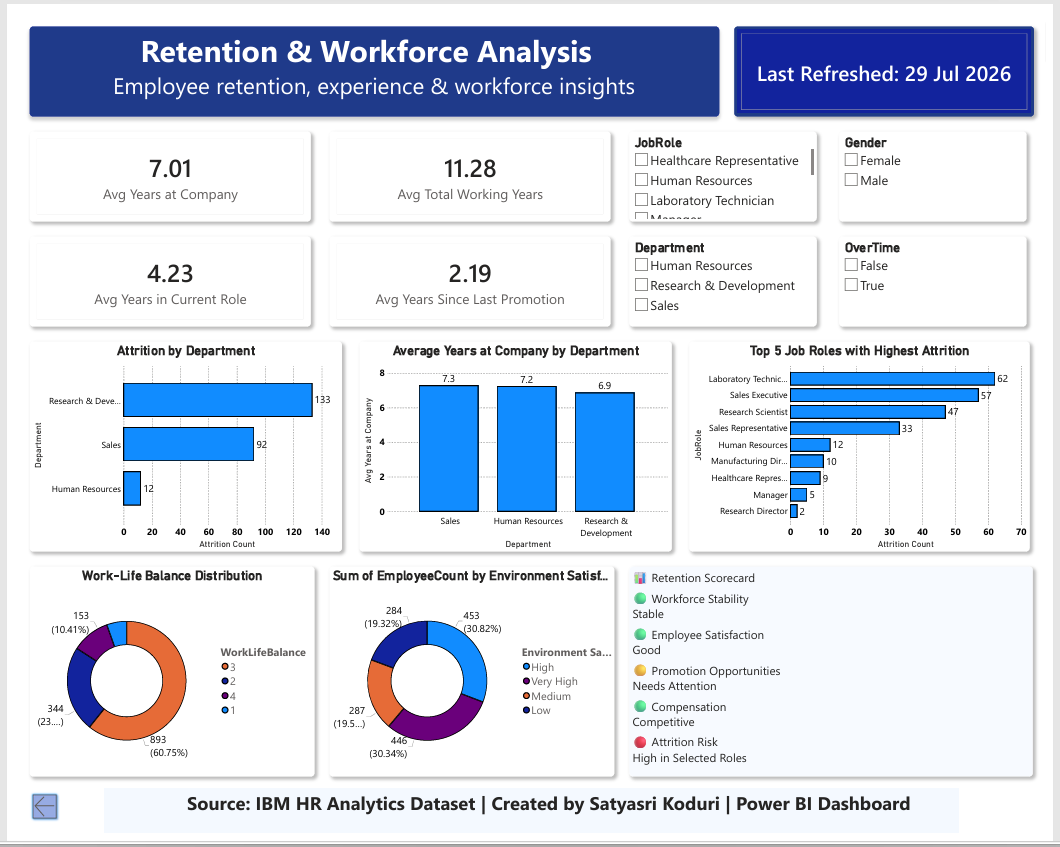

The page's visual inventory and layout, read from the dashboard file:
{"tool":"powerbi","page":{"name":"Page 3","canvas":[3300,2630],"ordinal":2},"visuals":[{"type":"textbox","box":[48,48,2208,288],"z":0},{"type":"cardVisual","fields":{"Data":["HR-Analytics-dataset.Last Refresh"]},"box":[2304,48,960,288],"z":1000},{"type":"cardVisual","fields":{"Data":["HR-Analytics-dataset.Avg Years at Company"]},"box":[48,384,900,288],"z":2000},{"type":"cardVisual","fields":{"Data":["HR-Analytics-dataset.Avg Total Working Years"]},"box":[1008,384,900,288],"z":3000},{"type":"cardVisual","fields":{"Data":["HR-Analytics-dataset.Avg Years in Current Role"]},"box":[48,720,900,288],"z":4000},{"type":"cardVisual","fields":{"Data":["HR-Analytics-dataset.Avg Years Since Last Promotion"]},"box":[1008,720,900,288],"z":5000},{"type":"slicer","fields":{"Values":["HR-Analytics-dataset.Department"]},"box":[1968,720,600,288],"z":6000},{"type":"slicer","fields":{"Values":["HR-Analytics-dataset.JobRole"]},"box":[1968,384,600,288],"z":7000},{"type":"slicer","fields":{"Values":["HR-Analytics-dataset.Gender"]},"box":[2640,384,600,288],"z":8000},{"type":"slicer","fields":{"Values":["HR-Analytics-dataset.OverTime"]},"box":[2640,720,600,288],"z":9000},{"type":"clusteredBarChart","title":"Attrition by Department","fields":{"Category":["HR-Analytics-dataset.Department"],"Y":["HR-Analytics-dataset.Attrition Count"]},"box":[48,1056,1000,672],"z":10000},{"type":"clusteredColumnChart","title":"Average Years at Company by Department","fields":{"Y":["HR-Analytics-dataset.Avg Years at Company"],"Category":["HR-Analytics-dataset.Department"]},"box":[1104,1056,1000,672],"z":11000},{"type":"clusteredBarChart","title":"Top 5 Job Roles with Highest Attrition","fields":{"Category":["HR-Analytics-dataset.JobRole"],"Y":["HR-Analytics-dataset.Attrition Count"]},"box":[2160,1056,1090,672],"z":12000},{"type":"donutChart","title":"Work-Life Balance Distribution","fields":{"Category":["HR-Analytics-dataset.WorkLifeBalance"],"Y":["CountNonNull(HR-Analytics-dataset.EmployeeCount)"]},"box":[48,1776,912,672],"z":13000},{"type":"donutChart","fields":{"Category":["HR-Analytics-dataset.Environment Satisfaction Level"],"Y":["Sum(HR-Analytics-dataset.EmployeeCount)"]},"box":[1008,1776,912,672],"z":14000},{"type":"textbox","box":[1968,1776,1292,672],"z":15000},{"type":"textbox","box":[288,2486,2736,144],"z":16000},{"type":"actionButton","box":[48,2496,96,96],"z":17000}]}

Visuals, with their boxes in screenshot pixels (x1, y1, x2, y2), scaled from the page's 3300x2630 canvas onto the 1060x847 screenshot:
textbox: region(15, 15, 725, 108)
cardVisual - HR-Analytics-dataset.Last Refresh: region(740, 15, 1048, 108)
cardVisual - HR-Analytics-dataset.Avg Years at Company: region(15, 124, 305, 216)
cardVisual - HR-Analytics-dataset.Avg Total Working Years: region(324, 124, 613, 216)
cardVisual - HR-Analytics-dataset.Avg Years in Current Role: region(15, 232, 305, 325)
cardVisual - HR-Analytics-dataset.Avg Years Since Last Promotion: region(324, 232, 613, 325)
slicer - HR-Analytics-dataset.Department: region(632, 232, 825, 325)
slicer - HR-Analytics-dataset.JobRole: region(632, 124, 825, 216)
slicer - HR-Analytics-dataset.Gender: region(848, 124, 1041, 216)
slicer - HR-Analytics-dataset.OverTime: region(848, 232, 1041, 325)
"Attrition by Department" clusteredBarChart: region(15, 340, 337, 557)
"Average Years at Company by Department" clusteredColumnChart: region(355, 340, 676, 557)
"Top 5 Job Roles with Highest Attrition" clusteredBarChart: region(694, 340, 1044, 557)
"Work-Life Balance Distribution" donutChart: region(15, 572, 308, 788)
donutChart - HR-Analytics-dataset.Environment Satisfaction Level x Sum(HR-Analytics-dataset.EmployeeCount): region(324, 572, 617, 788)
textbox: region(632, 572, 1047, 788)
textbox: region(93, 801, 971, 846)
actionButton: region(15, 804, 46, 835)
